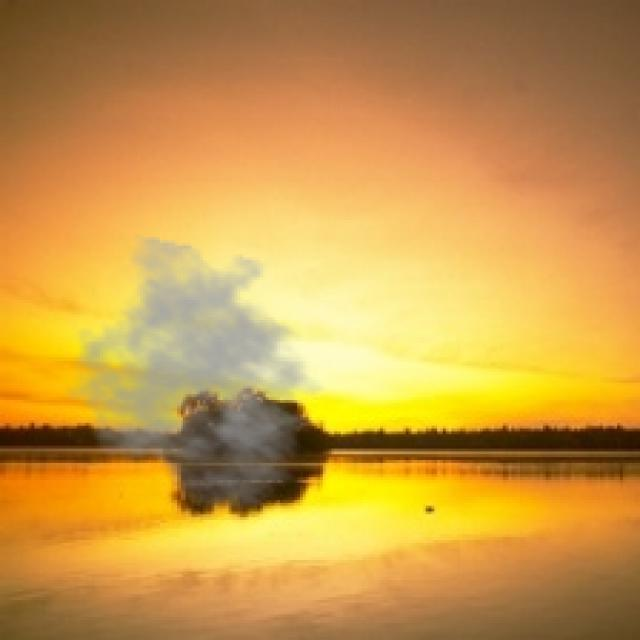Smoke: (62, 234, 338, 512)
